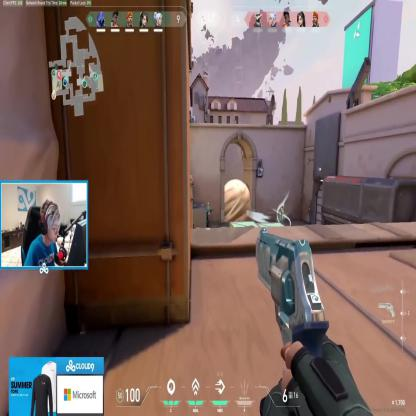enemy: (280, 204, 284, 226)
enemy_head: (281, 204, 284, 209)
